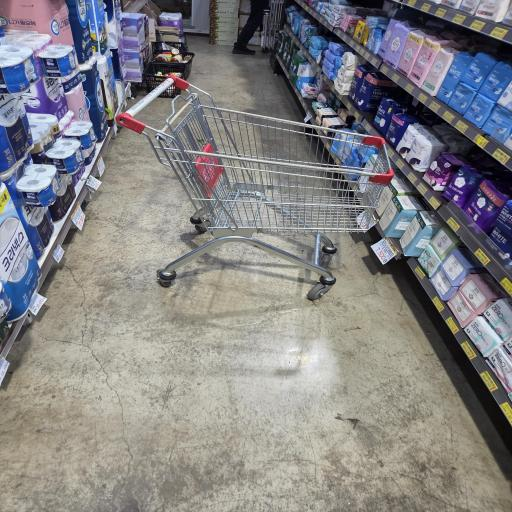empty_cart: (96, 72, 399, 286)
